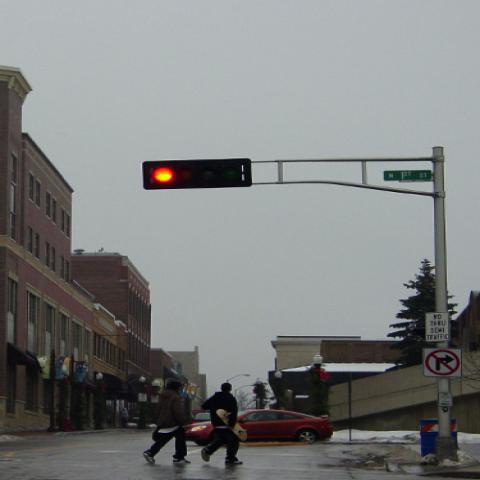car: (186, 411, 333, 449)
